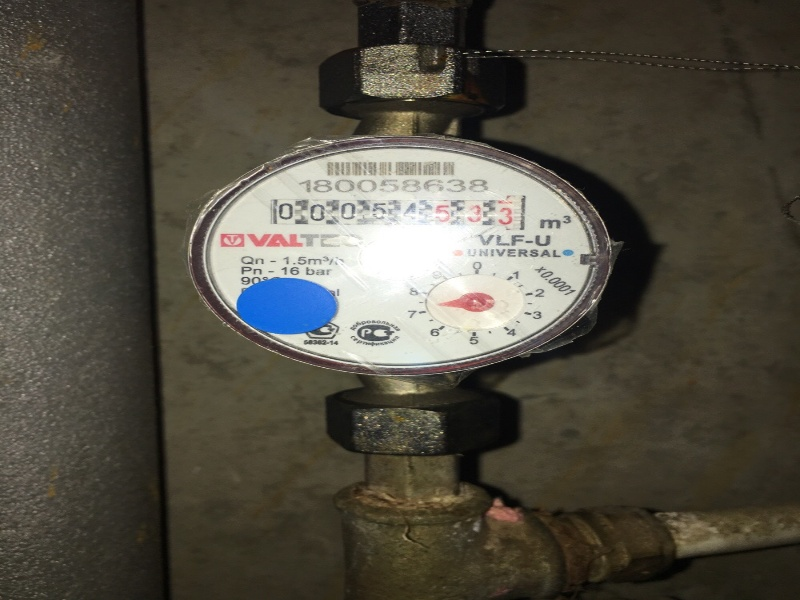dial: (267, 198, 511, 231)
